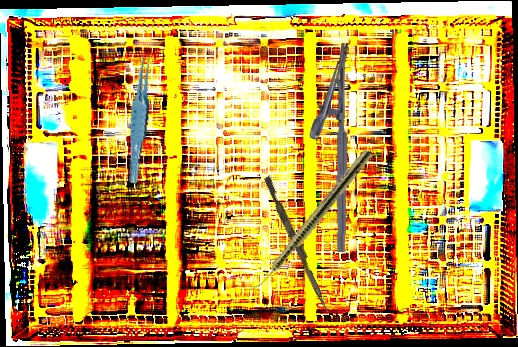Handpiece: (248, 146, 374, 298)
Needle Holder: (307, 42, 350, 253)
Pusher: (260, 175, 335, 315)
Tissue Forceps: (118, 48, 162, 184)
